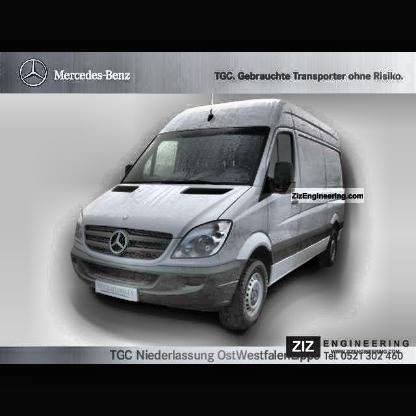Mercedes-Benz Sprinter Van 2012: (68, 98, 348, 339)
